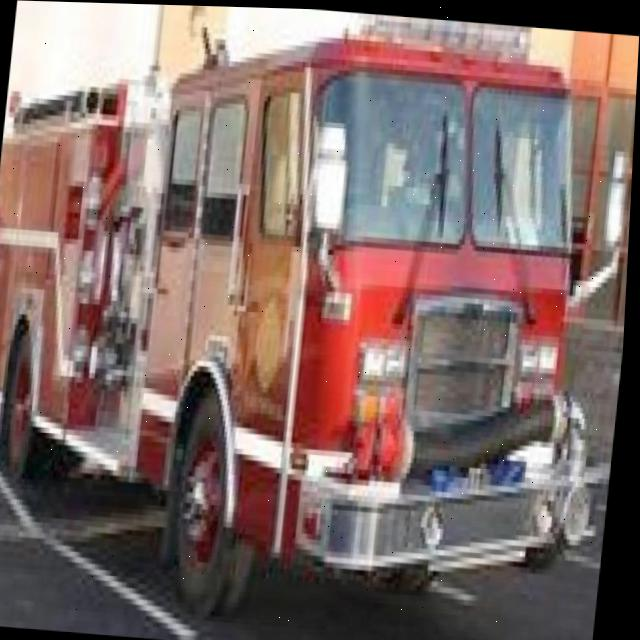emergency: (0, 5, 631, 640)
